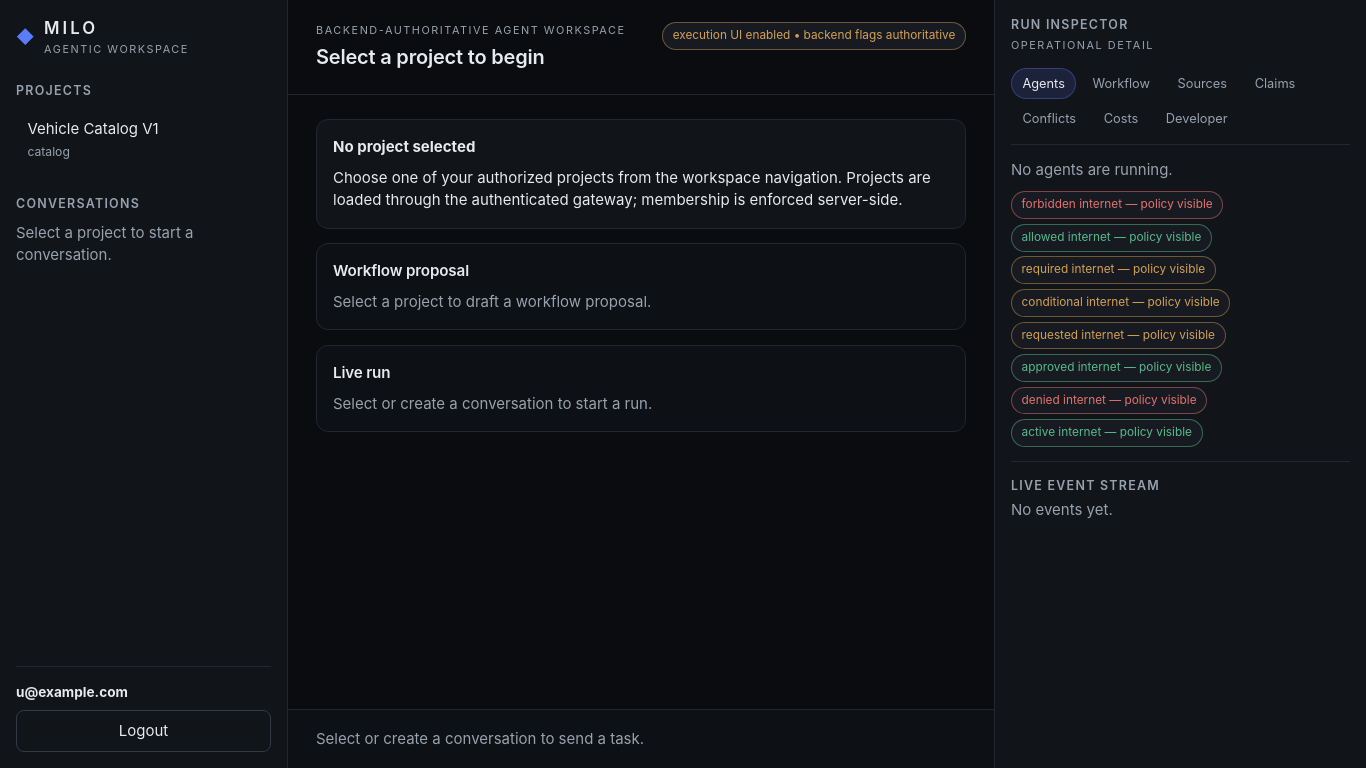
Scenario: result-surface routing › 2. a V1 project gets the typed Vehicle Catalog surface and never the Swarm V2 one
This screenshot has width=1366, height=768.
Click the text "Vehicle Catalog V1" at (93, 128), box left=27, top=119, right=159, bottom=138
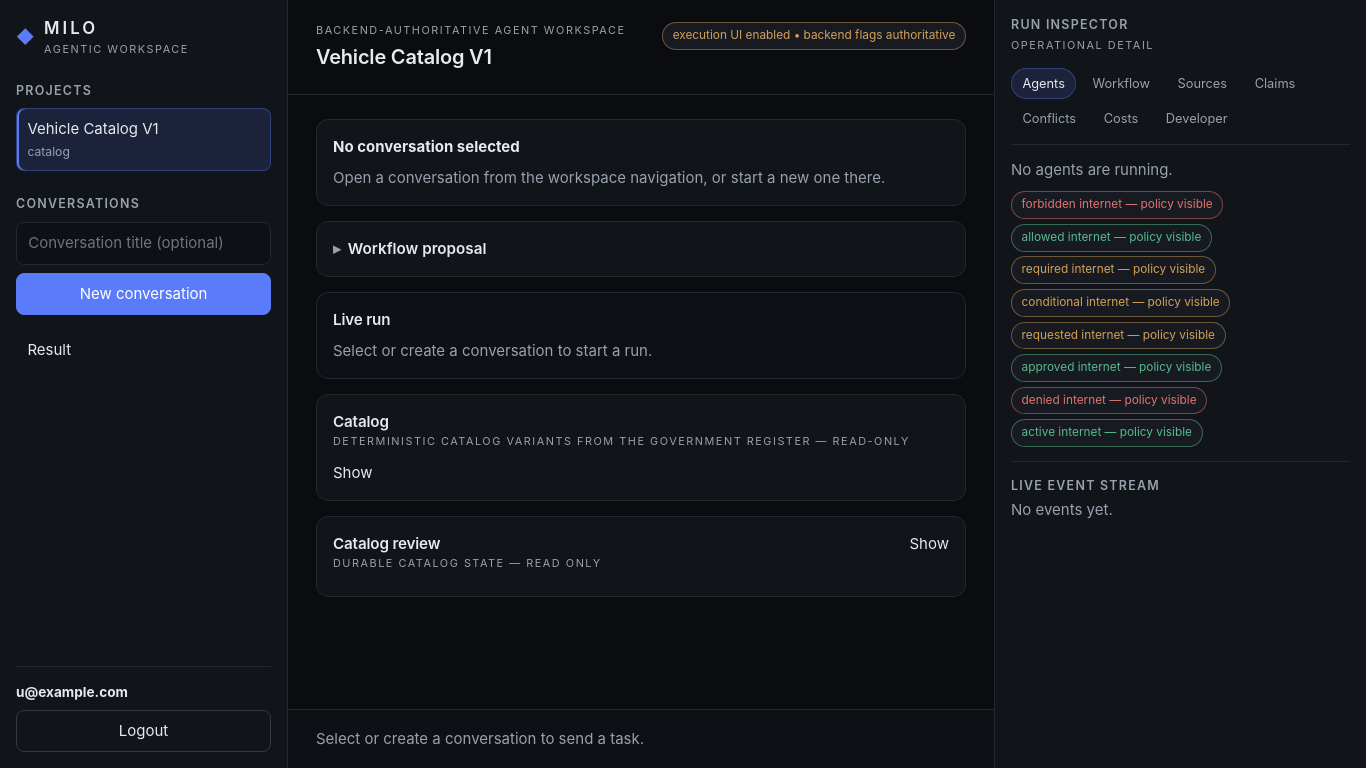
Click the button "Result" at (144, 350), box left=16, top=329, right=271, bottom=371
(page scrolled)
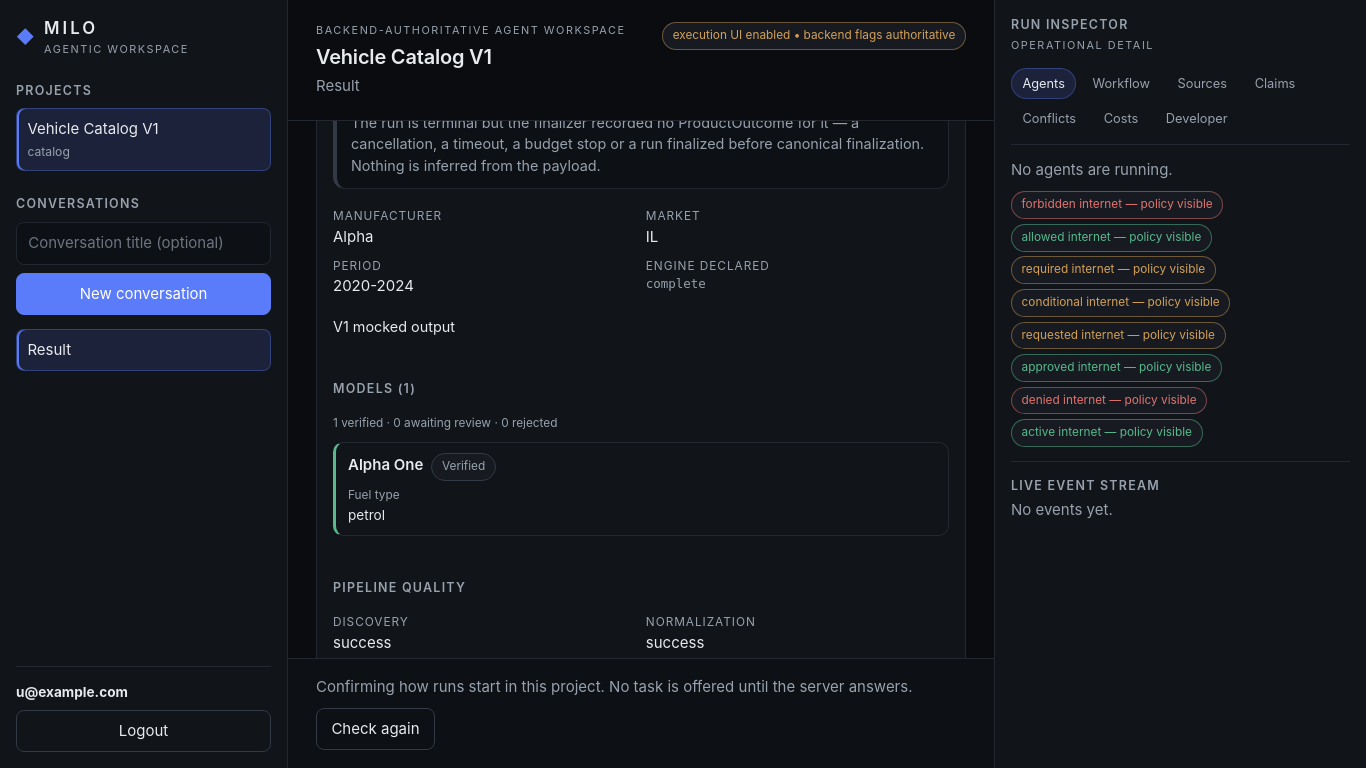
Result: the text "V1 mocked output" is shown at left=333, top=318, right=455, bottom=335
Result: the text "Alpha One" is shown at left=348, top=454, right=423, bottom=476
Result: the heading "Models (1)" is shown at left=333, top=381, right=416, bottom=396
